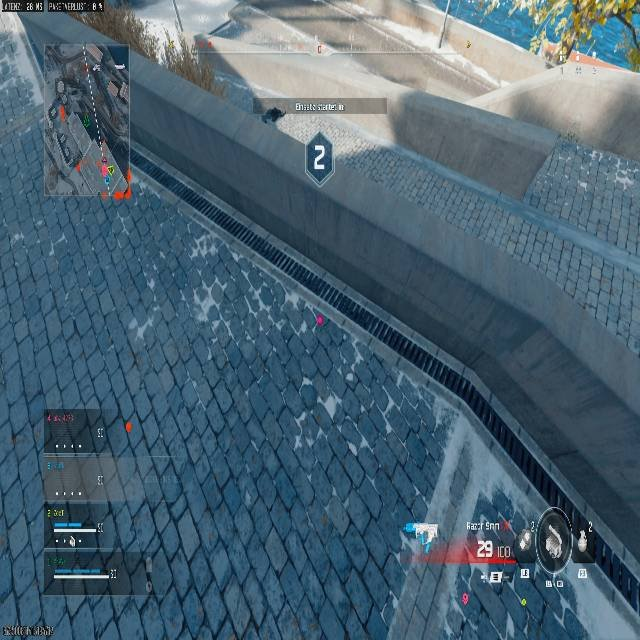player: (261, 106, 285, 125)
